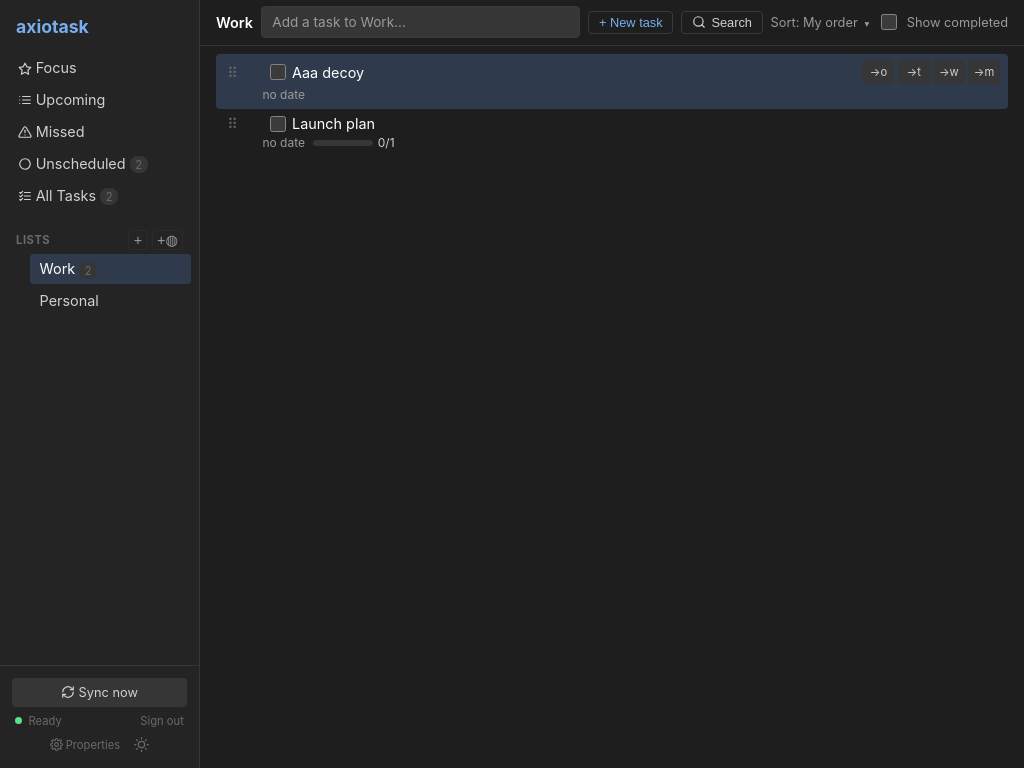
Scenario: GH#17: Search overlay › GH#92: opening a found subtask anchors it to its parent, never loose
The width and height of the screenshot is (1024, 768).
Expected: the text "Launch plan" is shown, [292,115,375,132]
Press /
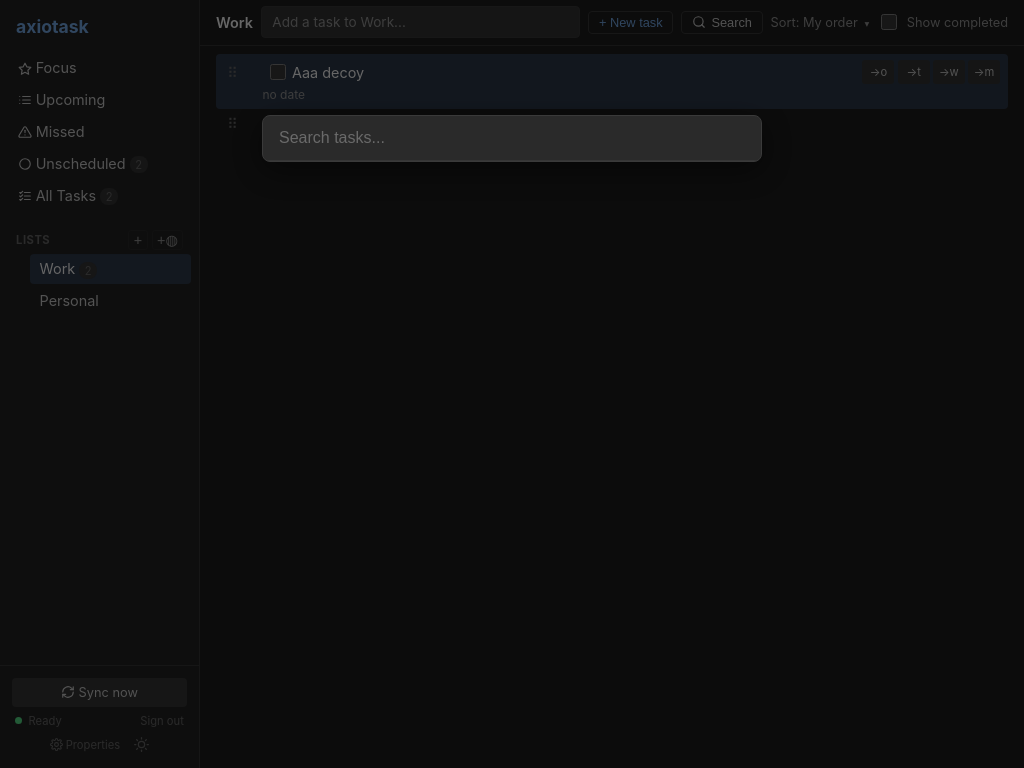
In the field with placeholder "Search tasks...": (512,138) [263,116,761,161], type "alpha child"
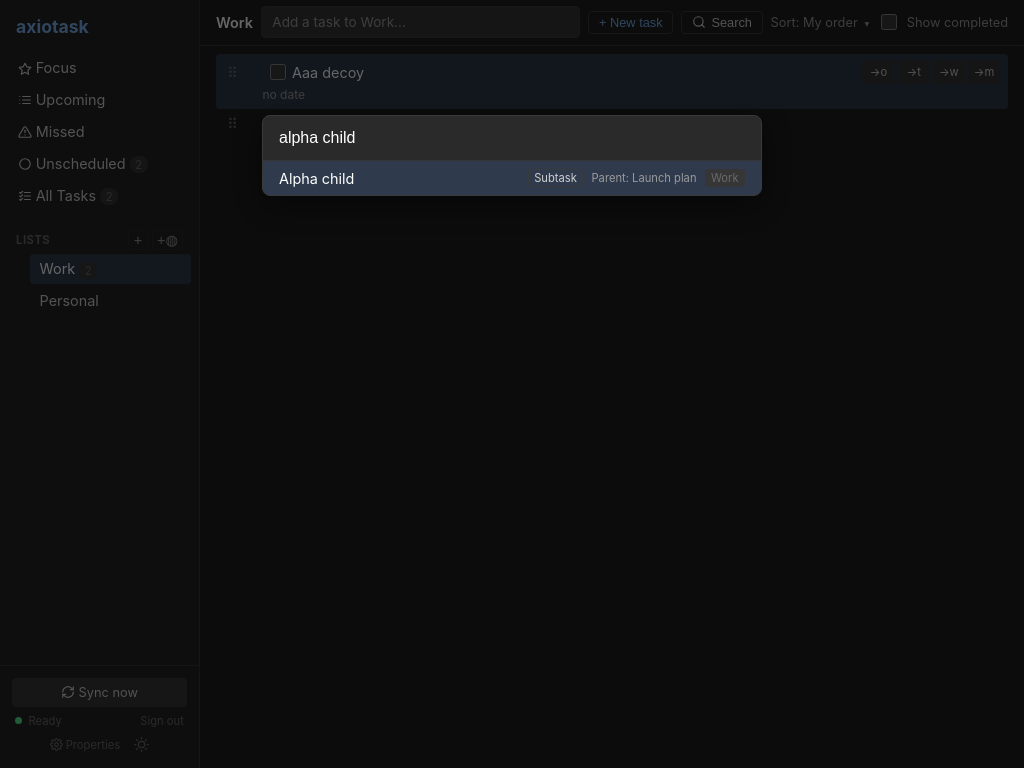
Expected: the text "Alpha child" is shown, [279,170,354,186]
Press Enter in the field with placeholder "Search tasks...", box [263,116,761,161]
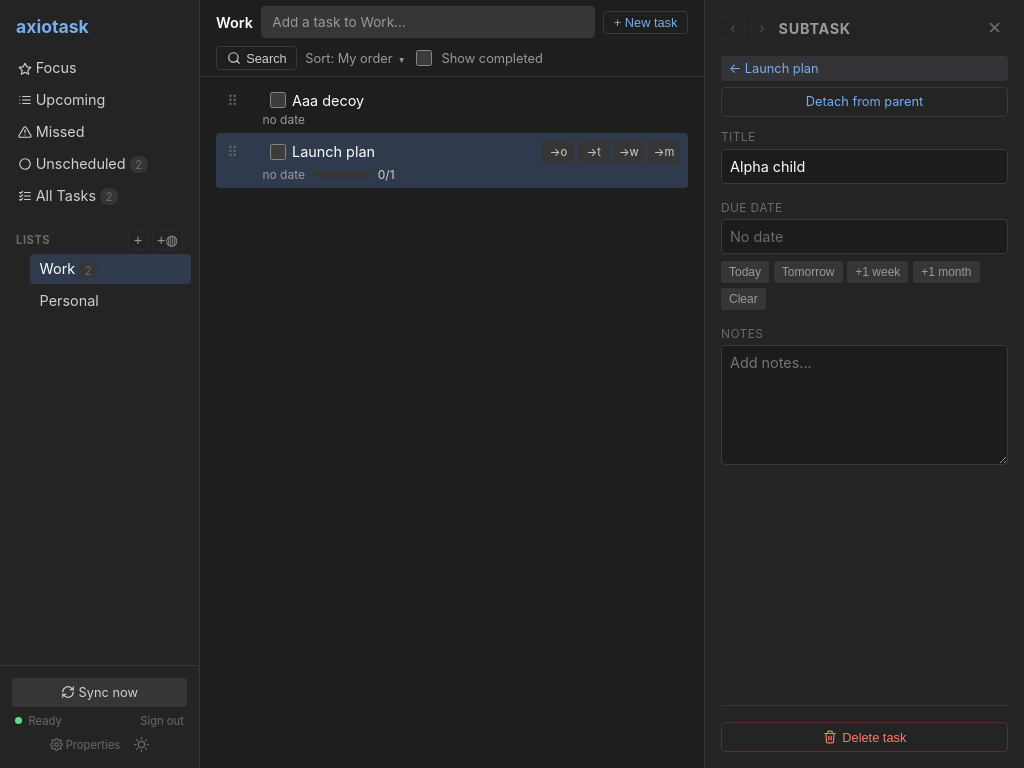
Expected: the heading "Subtask" is shown, [779,20,851,36]
Expected: the text with class "breadcrumb" shows "Launch plan", [729,61,818,76]
